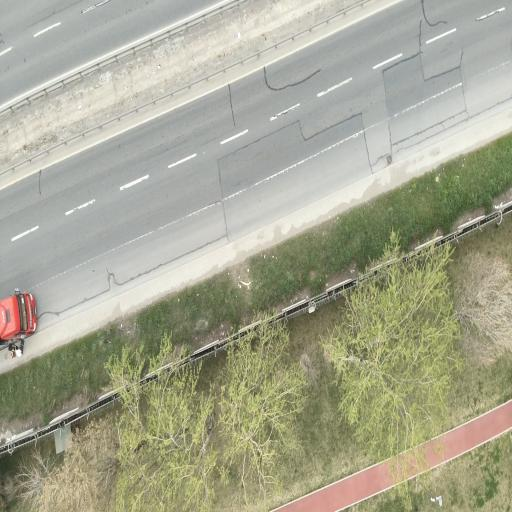person: (15, 346, 22, 356)
truck: (0, 289, 37, 344)
